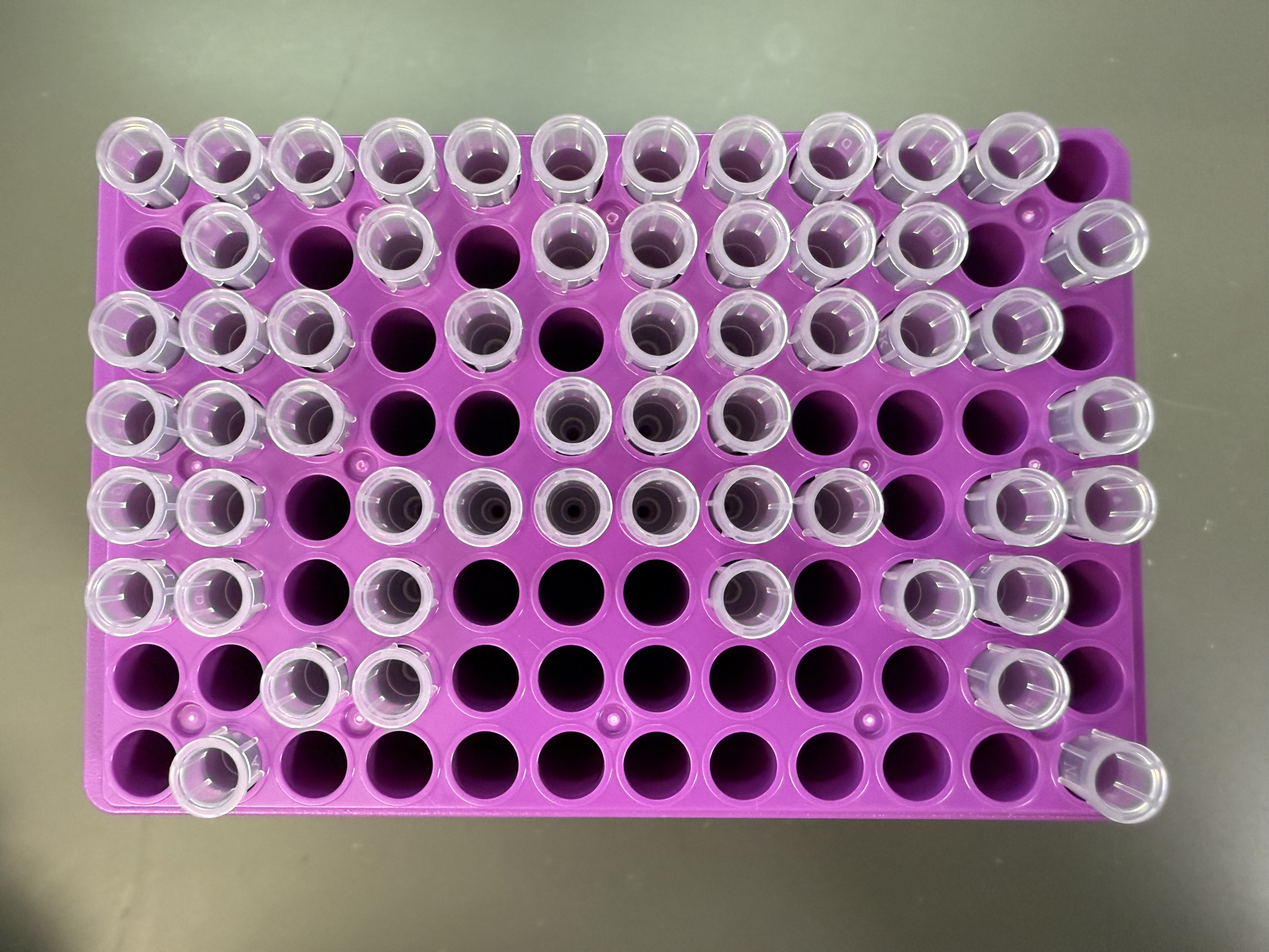rack: (91, 129, 1137, 824)
tip: (1060, 730, 1170, 824), (965, 645, 1072, 736), (871, 547, 975, 639), (1048, 374, 1154, 464), (971, 547, 1074, 639), (961, 458, 1068, 543), (1050, 201, 1150, 290), (354, 109, 446, 205), (263, 111, 354, 205), (173, 555, 265, 645), (704, 555, 796, 645), (348, 553, 440, 643), (169, 730, 261, 820), (1068, 466, 1160, 555), (348, 643, 440, 732), (259, 643, 350, 732), (704, 462, 794, 551), (975, 286, 1064, 376), (702, 111, 790, 201), (883, 111, 971, 201), (523, 107, 611, 197), (95, 115, 181, 207), (183, 111, 265, 207), (617, 113, 704, 203), (794, 111, 881, 201), (971, 111, 1058, 201), (179, 288, 269, 374), (177, 378, 267, 464), (881, 292, 971, 378), (704, 290, 794, 376), (531, 374, 621, 460), (704, 378, 794, 464), (84, 378, 173, 464), (88, 290, 177, 376), (267, 376, 356, 462), (269, 286, 358, 372), (442, 286, 531, 372), (794, 290, 883, 376), (613, 290, 702, 376), (617, 374, 706, 460), (181, 205, 271, 290), (173, 468, 263, 553), (354, 203, 444, 288), (521, 203, 611, 288), (702, 201, 792, 286), (881, 205, 971, 290), (350, 464, 440, 549), (84, 466, 173, 551), (613, 205, 702, 290), (790, 203, 879, 288), (442, 466, 531, 551), (88, 557, 171, 643), (535, 462, 615, 551), (444, 115, 521, 207), (621, 464, 700, 553), (802, 466, 881, 551)
